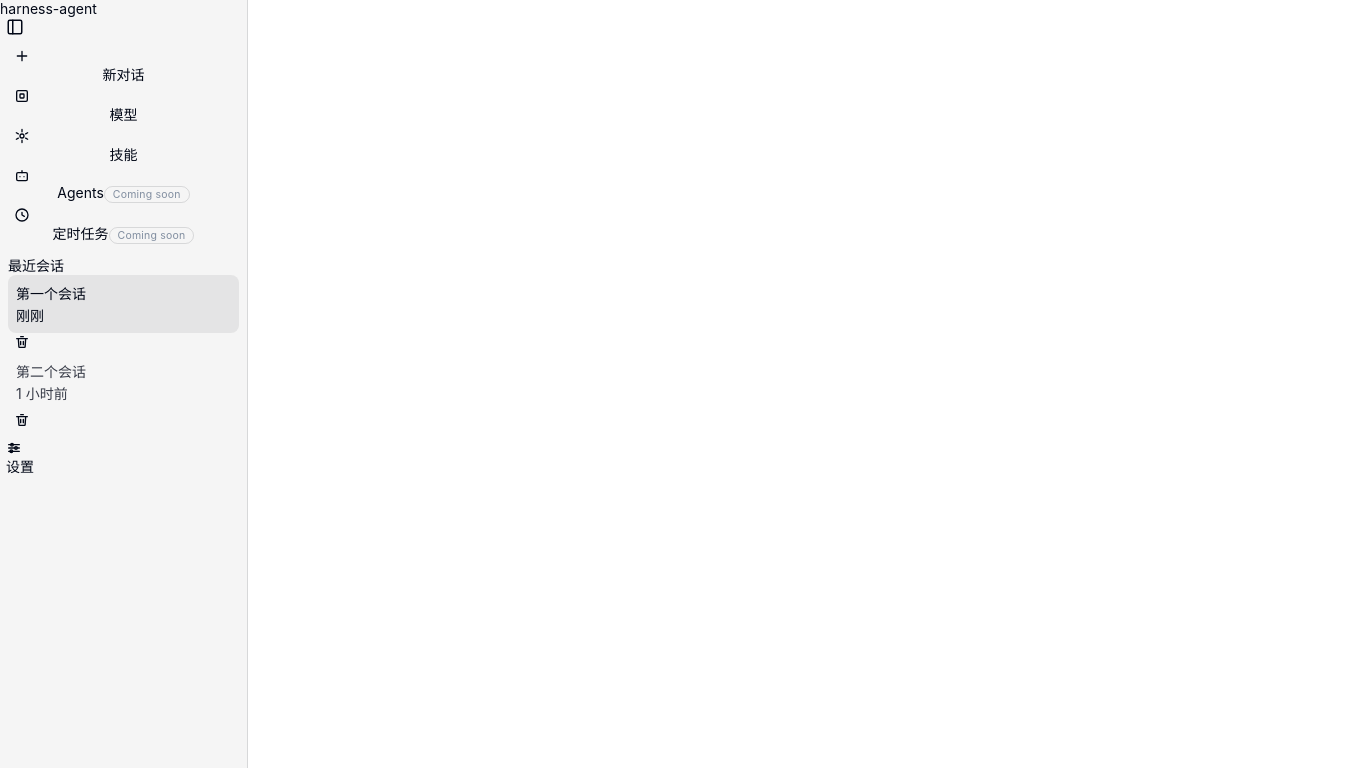
Sidebar › keeps the conversation when the dialog is cancelled
The image size is (1366, 768).
Check: the text "第一个会话" is shown, box [16,283,86,303]
Step 1. Click the button named "删除会话 第一个会话" → (22,342), box [8,333,36,351]
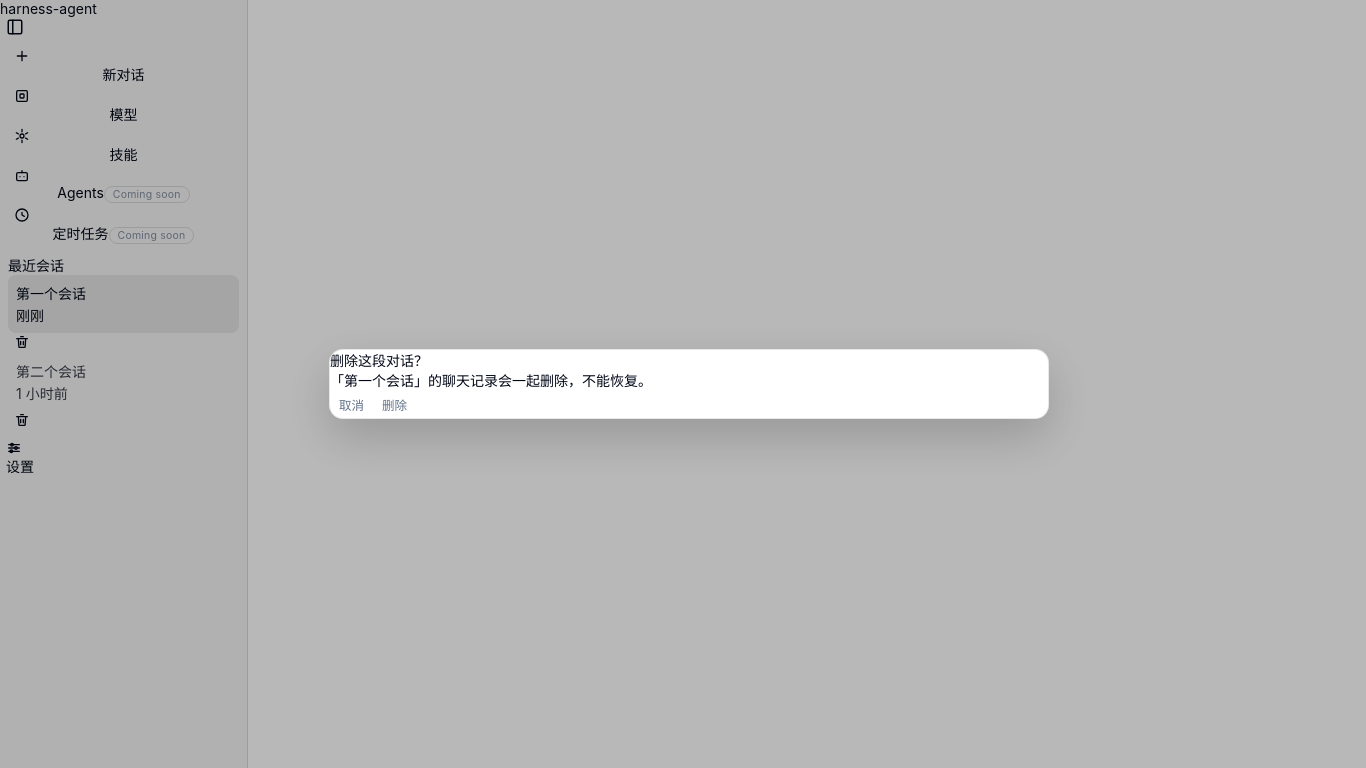
Step 2. Click the button "取消" → (352,404), box [330,390,373,418]
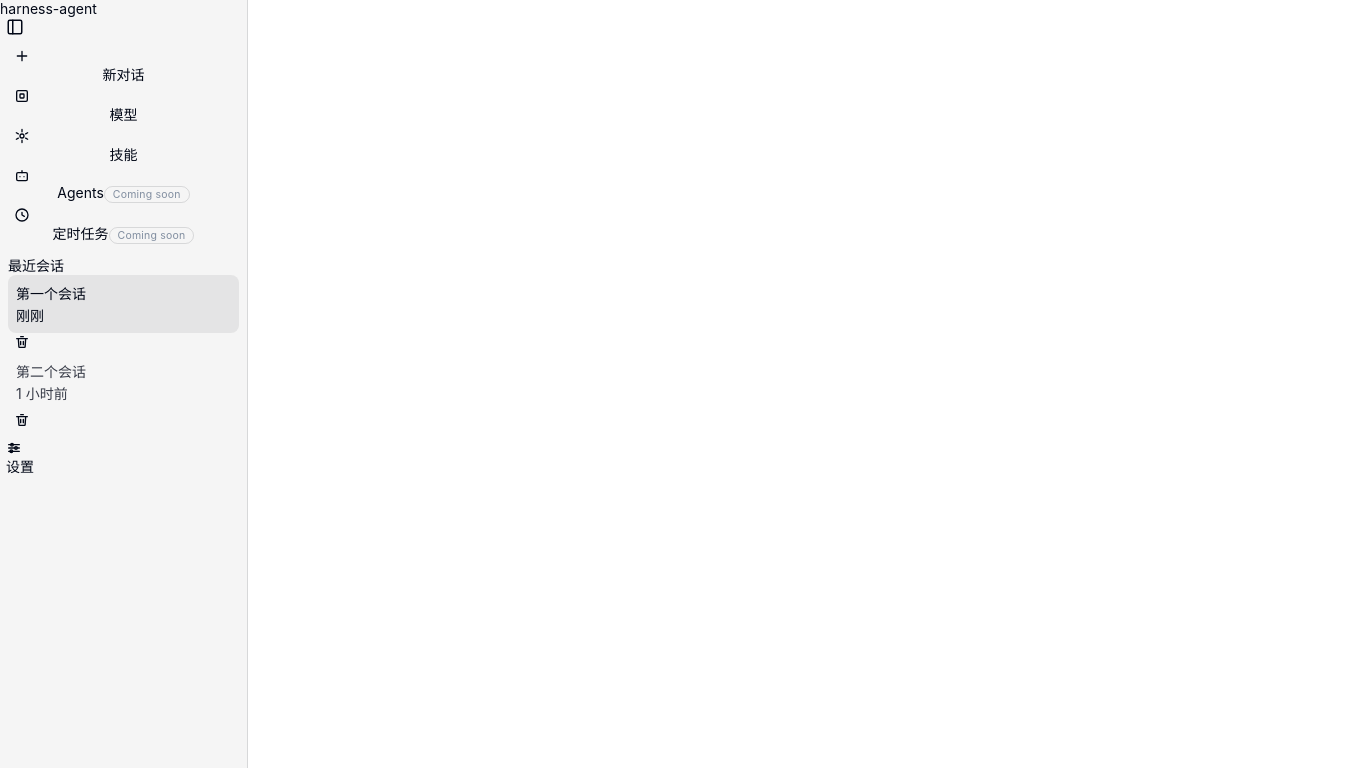
Check: the dialog is gone
